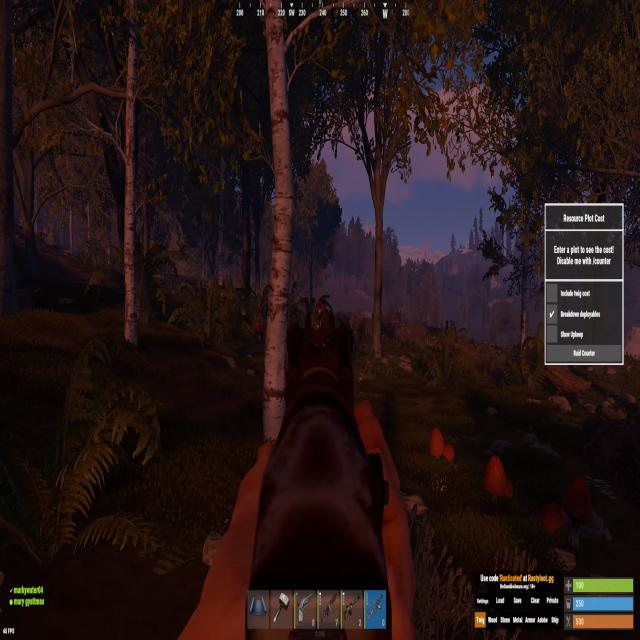Player: (314, 300, 329, 328)
